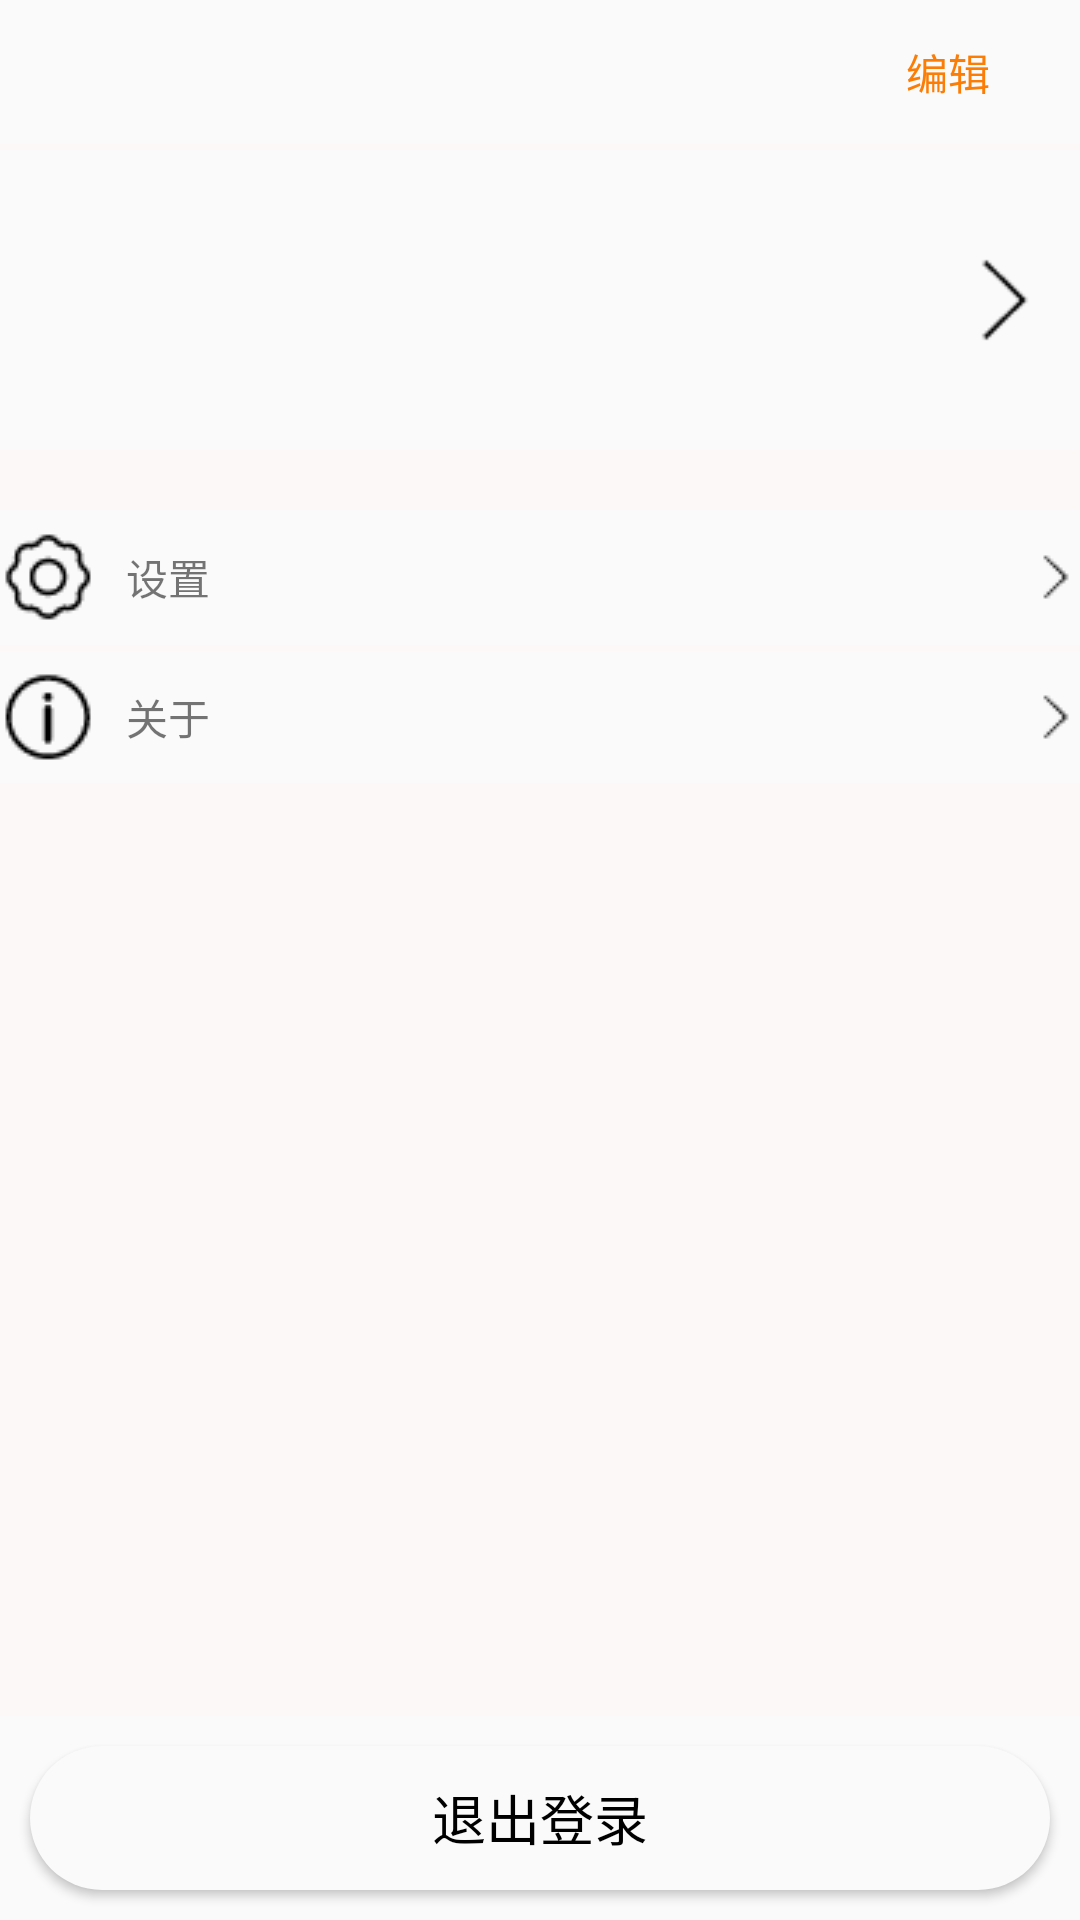

Icons on this 1080x1920 Android screen, each with its box as (left=x1, top=y1, right=x2, bottom=y2):
arrow: (left=982, top=260, right=1027, bottom=340)
